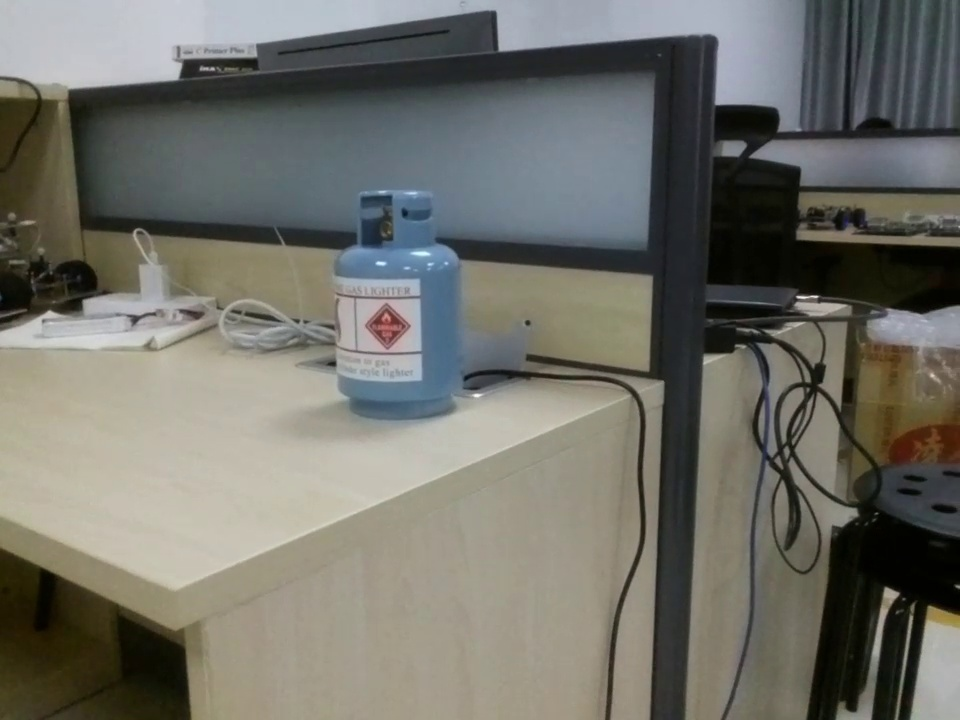gas tank: (326, 177, 473, 420)
